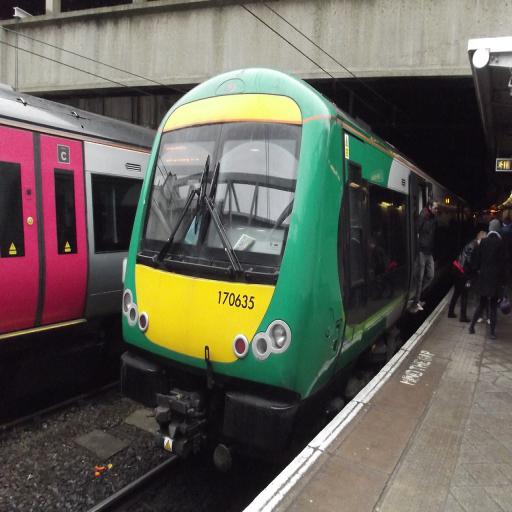platform_edge: (216, 338, 475, 512)
